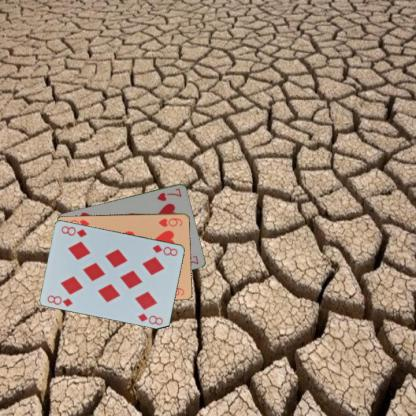6h: (156, 216, 184, 228)
7h: (154, 186, 183, 202)
8d: (45, 292, 74, 308), (150, 242, 178, 257)
